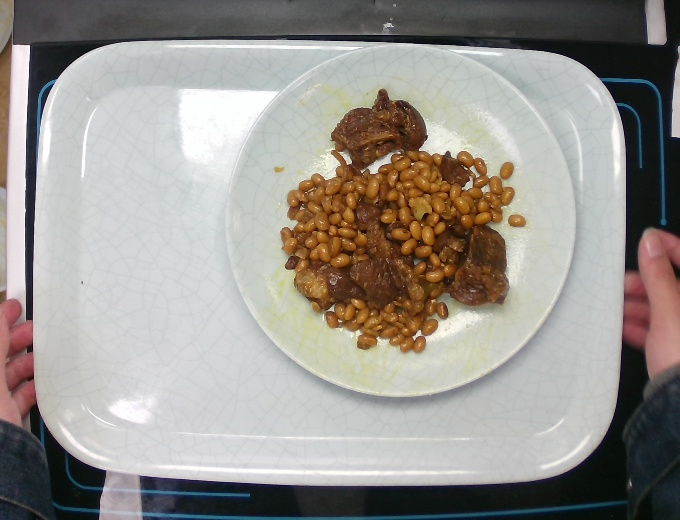JYsf-Da_Yuan_Pan: (222, 41, 578, 399)
